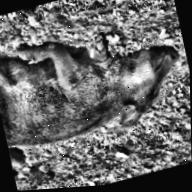boar: (0, 2, 191, 161)
